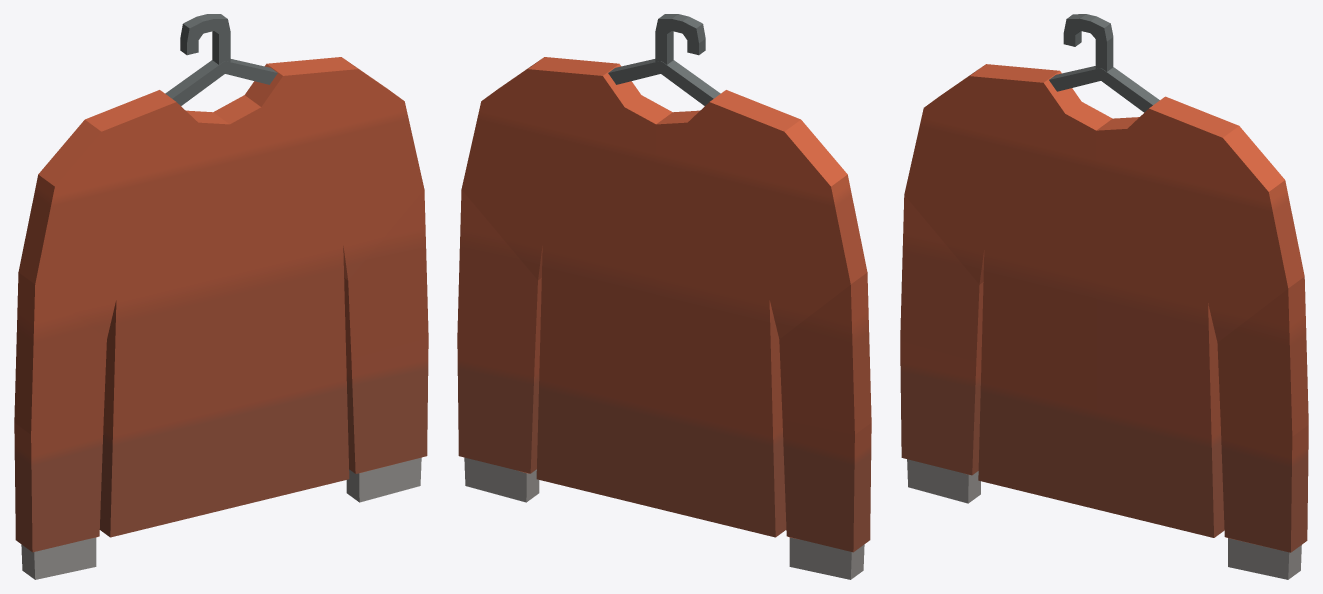
The model's file is SM_Props_Interior_Shop_Clothes_Jacket_01.fbx.
The picture shows the model from 3 angles, left to right: view 1: azimuth 30°, elevation 25°; view 2: azimuth 150°, elevation 25°; view 3: azimuth 330°, elevation 25°; orthographic projection.
Parts seen in each view (by area): view 1: SM_Props_Interior_Shop_Clothes_Jacket_01; view 2: SM_Props_Interior_Shop_Clothes_Jacket_01; view 3: SM_Props_Interior_Shop_Clothes_Jacket_01.
Part boxes in pixels (<box>): SM_Props_Interior_Shop_Clothes_Jacket_01: <box>14,14,428,579</box>; SM_Props_Interior_Shop_Clothes_Jacket_01: <box>457,14,871,579</box>; SM_Props_Interior_Shop_Clothes_Jacket_01: <box>900,14,1308,579</box>.
Size of the model in its own units: 69.61 by 86.38 by 5.07.
